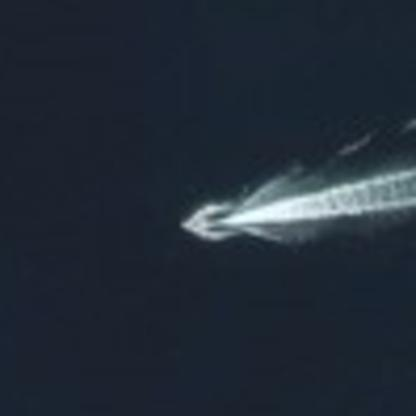ship: (176, 200, 244, 246)
